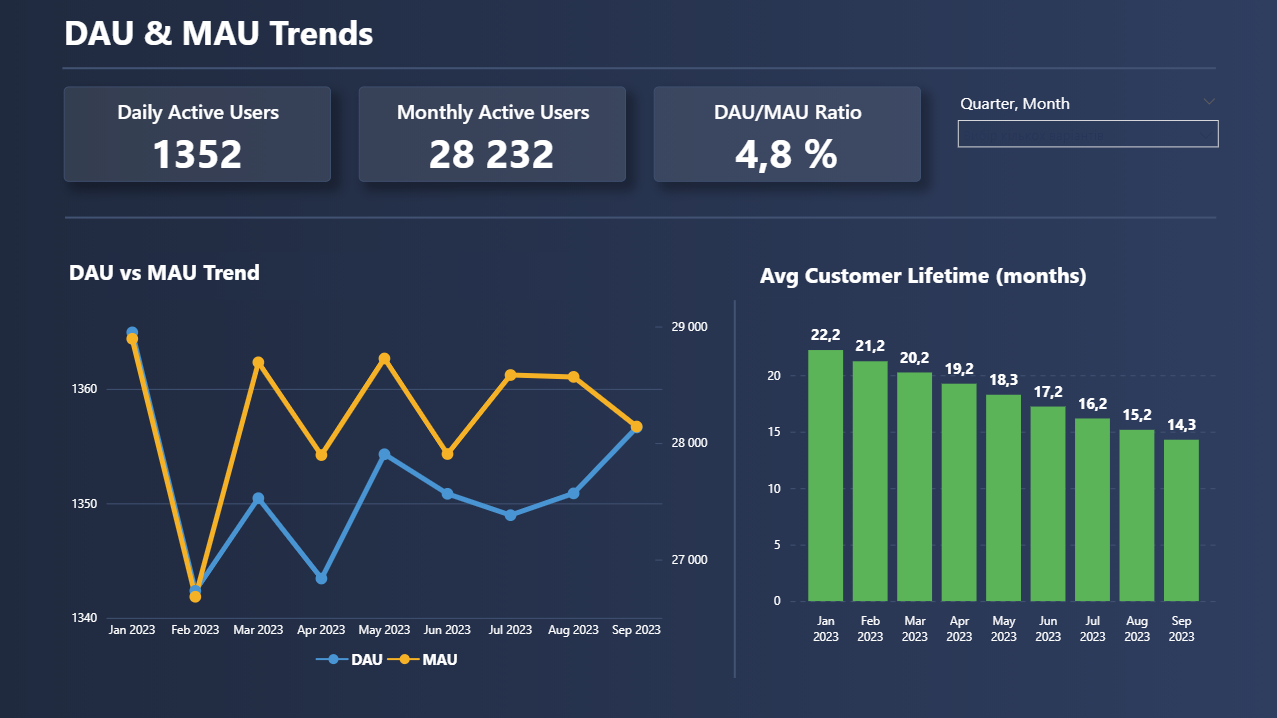

This screenshot's page, from the dashboard's own definition file:
{"tool":"powerbi","page":{"name":"DAU & MAU Trends ","canvas":[1280,720],"ordinal":4},"visuals":[{"type":"card","title":"Daily Active Users","fields":{"Values":["_Measures.DAU Chart"]},"box":[63.2,87.5,266.9,95],"z":0,"group":"g3"},{"type":"group","id":"g1","title":"Группа 2","box":[947,88,280.9,98.5],"z":0},{"type":"slicer","fields":{"Values":["Calendar.Quarter","Calendar.Month"]},"box":[947,88,280.9,98.5],"z":0,"group":"g1"},{"type":"card","title":"Monthly Active Users","fields":{"Values":["_Measures.Avg MAU"]},"box":[358.3,87.5,266.9,95.3],"z":1000,"group":"g3"},{"type":"clusteredColumnChart","title":"Revenue by Country","fields":{"Category":["Calendar.MonthYear"],"Y":["_Measures.Avg Lifetime Chart"]},"box":[767.2,313.7,449.8,334.3],"z":1000},{"type":"shape","title":"Retention Heatmap","box":[63.5,0,1153,65.1],"z":2000},{"type":"card","title":"DAU/MAU Ratio","fields":{"Values":["_Measures.DAU/MAU Ratio"]},"box":[653.3,87.5,266.9,95.3],"z":2000,"group":"g3"},{"type":"textbox","box":[755,256.5,384.2,42.6],"z":3000},{"type":"group","id":"g2","title":"Група 1","box":[65.7,313.7,646.8,366],"z":4000},{"type":"shape","box":[64.4,212.8,1151.4,12.2],"z":5000},{"type":"textbox","box":[63.2,252.9,604.3,48.6],"z":6000},{"type":"lineChart","title":"Retention Rate by Cohort","fields":{"Category":["Calendar.MonthYear1"],"Y":["_Measures.DAU Chart"],"Y2":["_Measures.MAU"]},"box":[65.7,313.7,646.8,366],"z":6000,"group":"g2"},{"type":"shape","box":[62.7,65.1,1153.4,8.4],"z":7000},{"type":"group","id":"g3","title":"Група 2","box":[63.2,87.5,855.9,94.8],"z":8000},{"type":"shape","box":[728.7,301.6,12.1,377.6],"z":9000}]}

Visuals, with their boxes in screenshot pixels (x1, y1, x2, y2), scaled from the page's 1280x720 canvas onto the 1277x718 screenshot:
"Daily Active Users" card: crop(63, 87, 329, 182)
"Группа 2" group: crop(945, 88, 1225, 186)
slicer - Calendar.Quarter x Calendar.Month: crop(945, 88, 1225, 186)
"Monthly Active Users" card: crop(357, 87, 624, 182)
"Revenue by Country" clusteredColumnChart: crop(765, 313, 1214, 646)
"Retention Heatmap" shape: crop(63, 0, 1214, 65)
"DAU/MAU Ratio" card: crop(652, 87, 918, 182)
textbox: crop(753, 256, 1137, 298)
"Група 1" group: crop(66, 313, 711, 678)
shape: crop(64, 212, 1213, 224)
textbox: crop(63, 252, 666, 301)
"Retention Rate by Cohort" lineChart: crop(66, 313, 711, 678)
shape: crop(63, 65, 1213, 73)
"Група 2" group: crop(63, 87, 917, 182)
shape: crop(727, 301, 739, 677)
